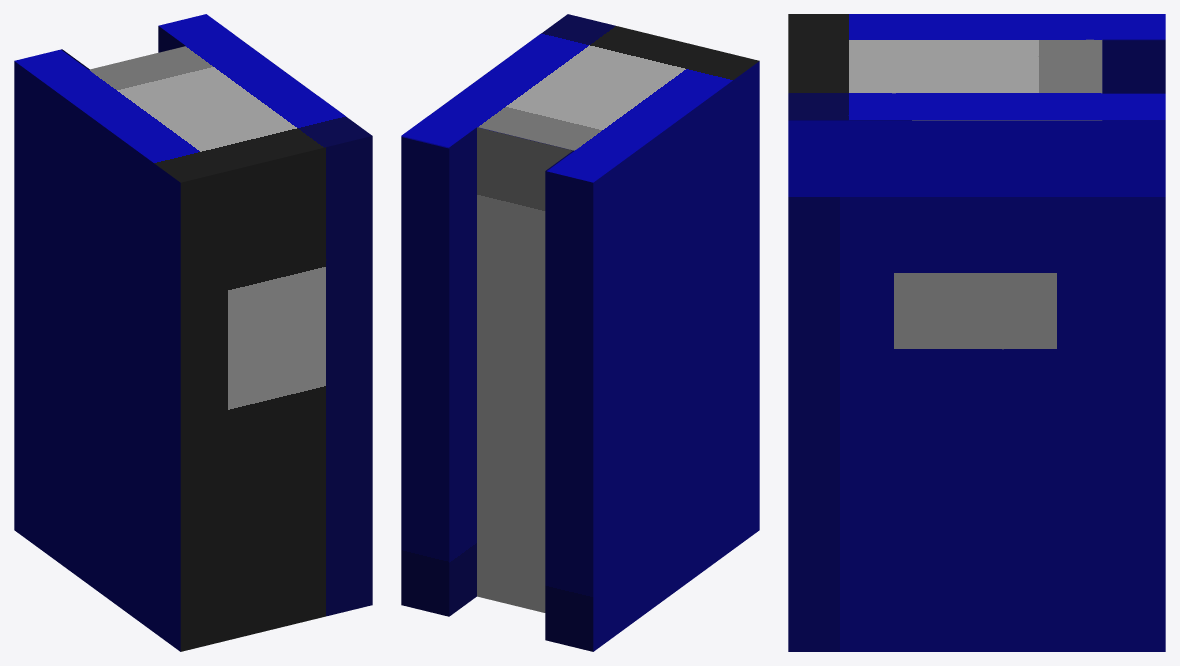
File: book_642x26.obj
3 views of the same model, side by side, from view 1: azimuth 30°, elevation 25°; view 2: azimuth 150°, elevation 25°; view 3: azimuth 270°, elevation 25° (orthographic). The views are drawn at different scales.
Parts seen in each view (by area): view 1: Cube.001; view 2: Cube.001; view 3: Cube.001.
Boxes of the visible parts, bbox=[...] form: Cube.001: bbox=[14, 14, 372, 651]; Cube.001: bbox=[401, 14, 759, 651]; Cube.001: bbox=[788, 14, 1165, 651].
Bounding box in the file's own units: 0.5 × 1.17 × 0.75.
